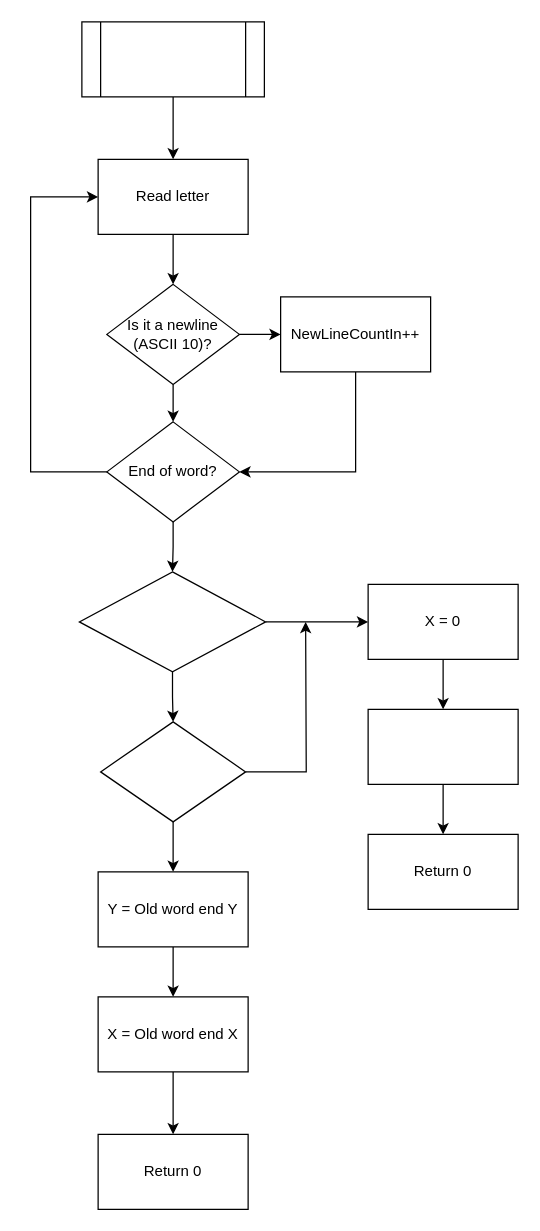
This 540x1231 diagram has some shape labels left out. Here are the shapes that lost their labels. From the top down, the centre of each, then its label:
At [172,59]: "F_FindWordOrigin".
At [172,621]: "Is NewLineCountIn > 0".
At [442,746]: "Y = New line".
At [172,771]: "Is word going to overspill page?".
